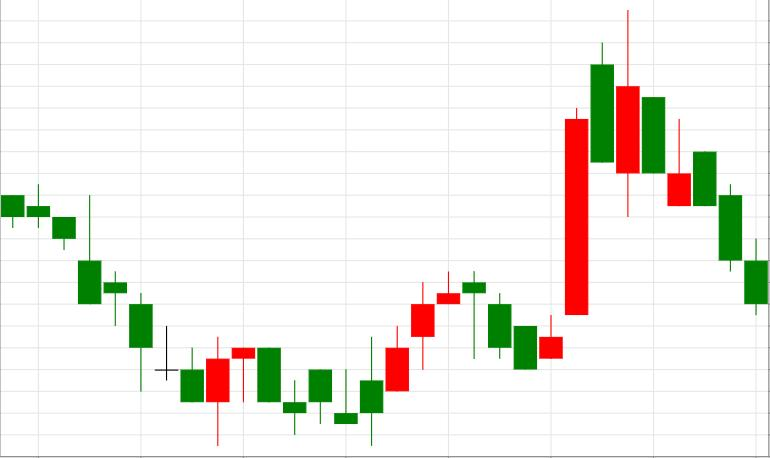bullish_engulfing_rise: (0, 185, 229, 448)
evening_star_fall: (335, 271, 511, 447)
